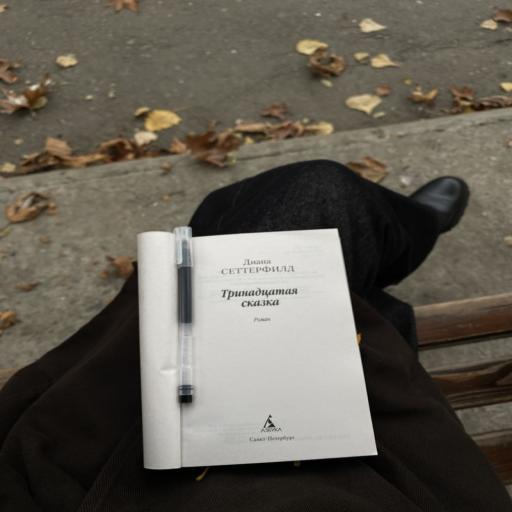bed: (132, 226, 380, 474)
glass_wall: (0, 0, 512, 179)
trash_bin: (401, 289, 512, 512)
